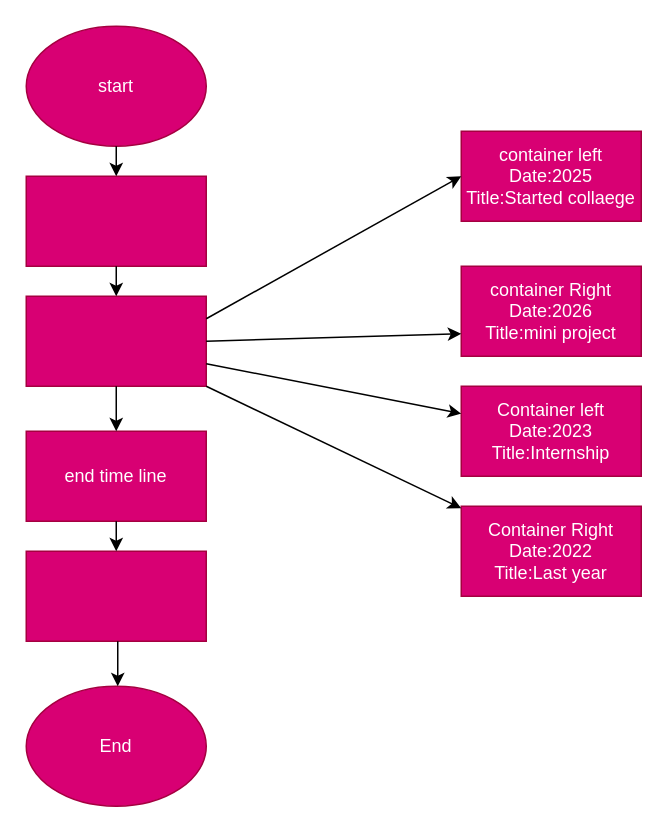
This 668x833 diagram has some shape labels left out. The shapes that lost their labels are listed below. From the top down, each one's centre as x and y in pixels, then its label:
the point at 115,220: start time line container
the point at 115,340: remaind time line
the point at 115,595: respond css triggers on mobile view
